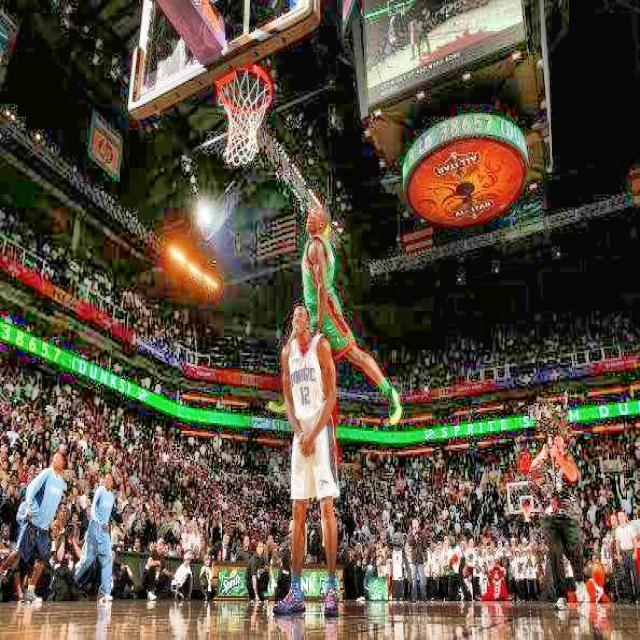rim: (216, 62, 272, 166)
